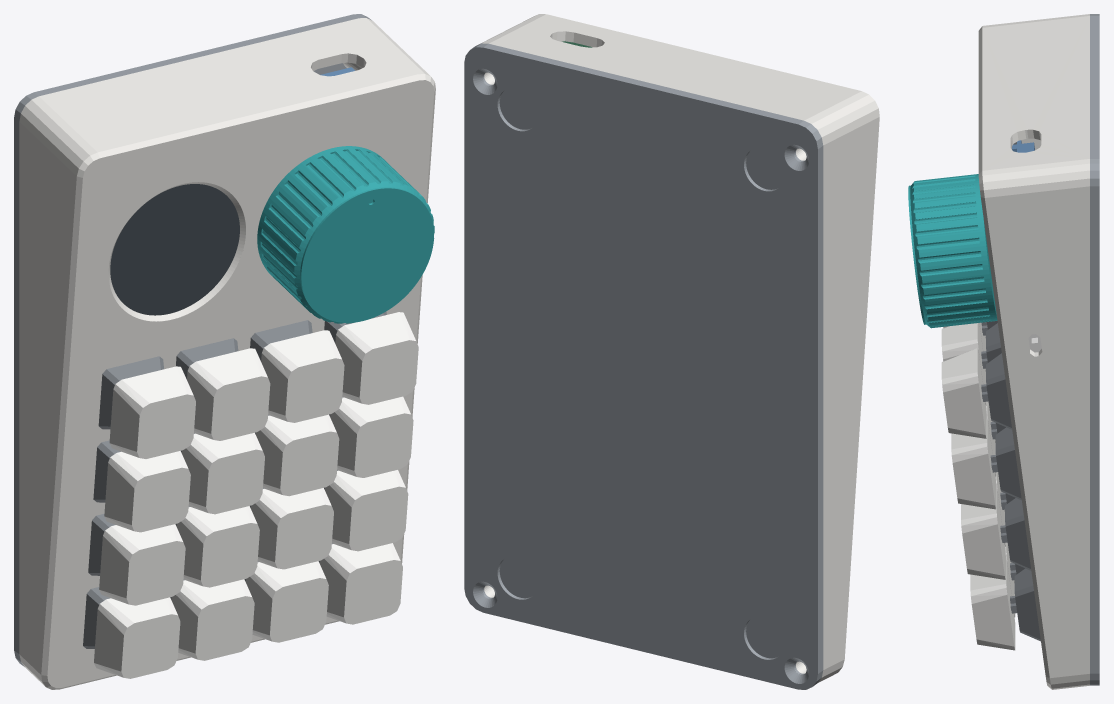
File: viewer_C.glb
The picture shows the model from 3 angles, left to right: view 1: azimuth 30°, elevation 25°; view 2: azimuth 150°, elevation 25°; view 3: azimuth 270°, elevation 25°; orthographic projection. The views are drawn at different scales.
Visible parts, largest first — view 1: top, keycaps, knob, display, switches, bottom; view 2: bottom, top; view 3: top, keycaps, knob, switches, bottom.
Boxes of the visible parts, x1,y1,x2,y2 form: top: (19,18,435,689); keycaps: (94,312,418,678); knob: (257,146,434,323); display: (110,184,239,315); switches: (83,311,386,648); bottom: (14,14,371,666); bottom: (464,43,823,689); top: (478,14,879,682); top: (978,14,1089,689); keycaps: (941,322,1015,650); knob: (908,174,997,328); switches: (981,321,1040,641); bottom: (1090,14,1099,685).
Bounding box in the file's own units: 92.5 × 142 × 46.51.
